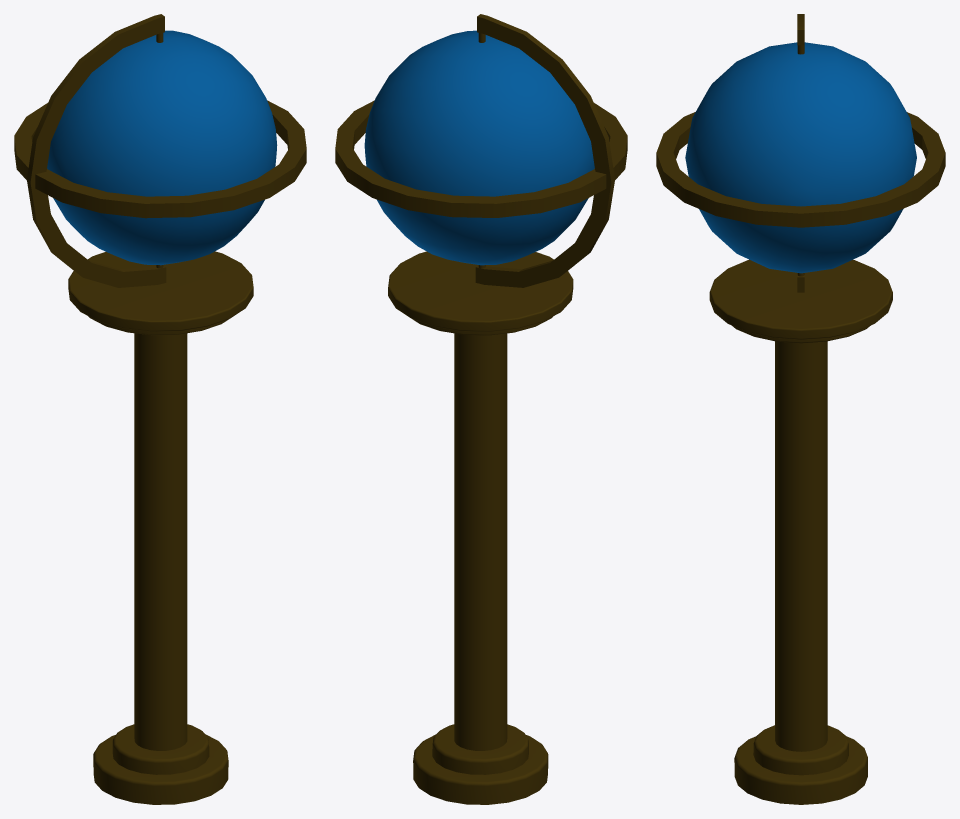
The model's file is StandingGlobe.fbx.
3 views of the same model, side by side, from view 1: azimuth 30°, elevation 25°; view 2: azimuth 150°, elevation 25°; view 3: azimuth 270°, elevation 25° (orthographic).
Parts seen in each view (by area): view 1: pCylinder27, Earth1, pCylinder1, pCylinder2; view 2: pCylinder27, Earth1, pCylinder1, pCylinder2; view 3: pCylinder27, Earth1, pCylinder1.
Boxes of the visible parts, <box> form: pCylinder27: <box>68,251,253,804</box>; Earth1: <box>47,30,277,265</box>; pCylinder1: <box>14,100,306,218</box>; pCylinder2: <box>27,14,166,287</box>; pCylinder27: <box>388,251,573,804</box>; Earth1: <box>364,30,594,265</box>; pCylinder1: <box>335,100,627,217</box>; pCylinder2: <box>475,14,614,287</box>; pCylinder27: <box>709,259,892,804</box>; Earth1: <box>685,42,916,273</box>; pCylinder1: <box>656,112,945,227</box>.
Bounding box in the file's own units: 2.53 × 7.11 × 2.49.
